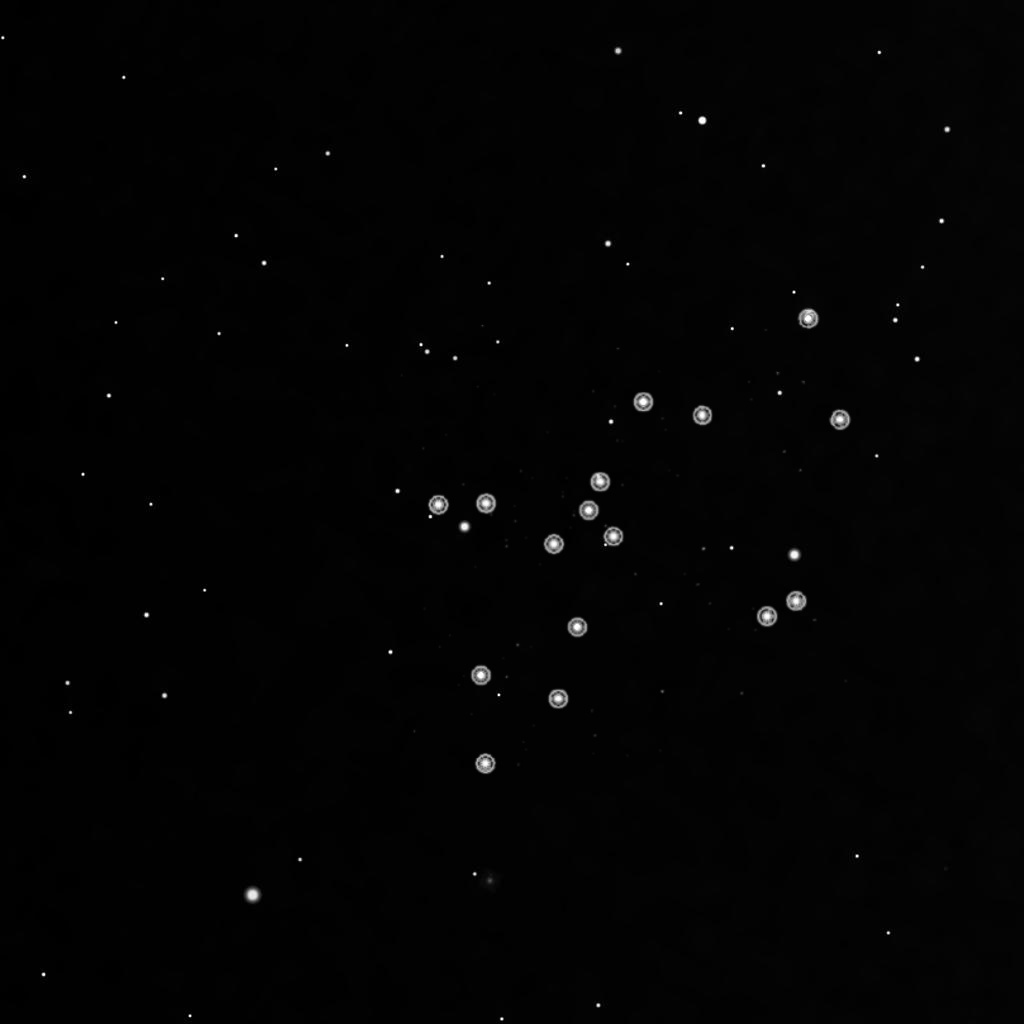canis_major: (535, 387, 717, 560)
